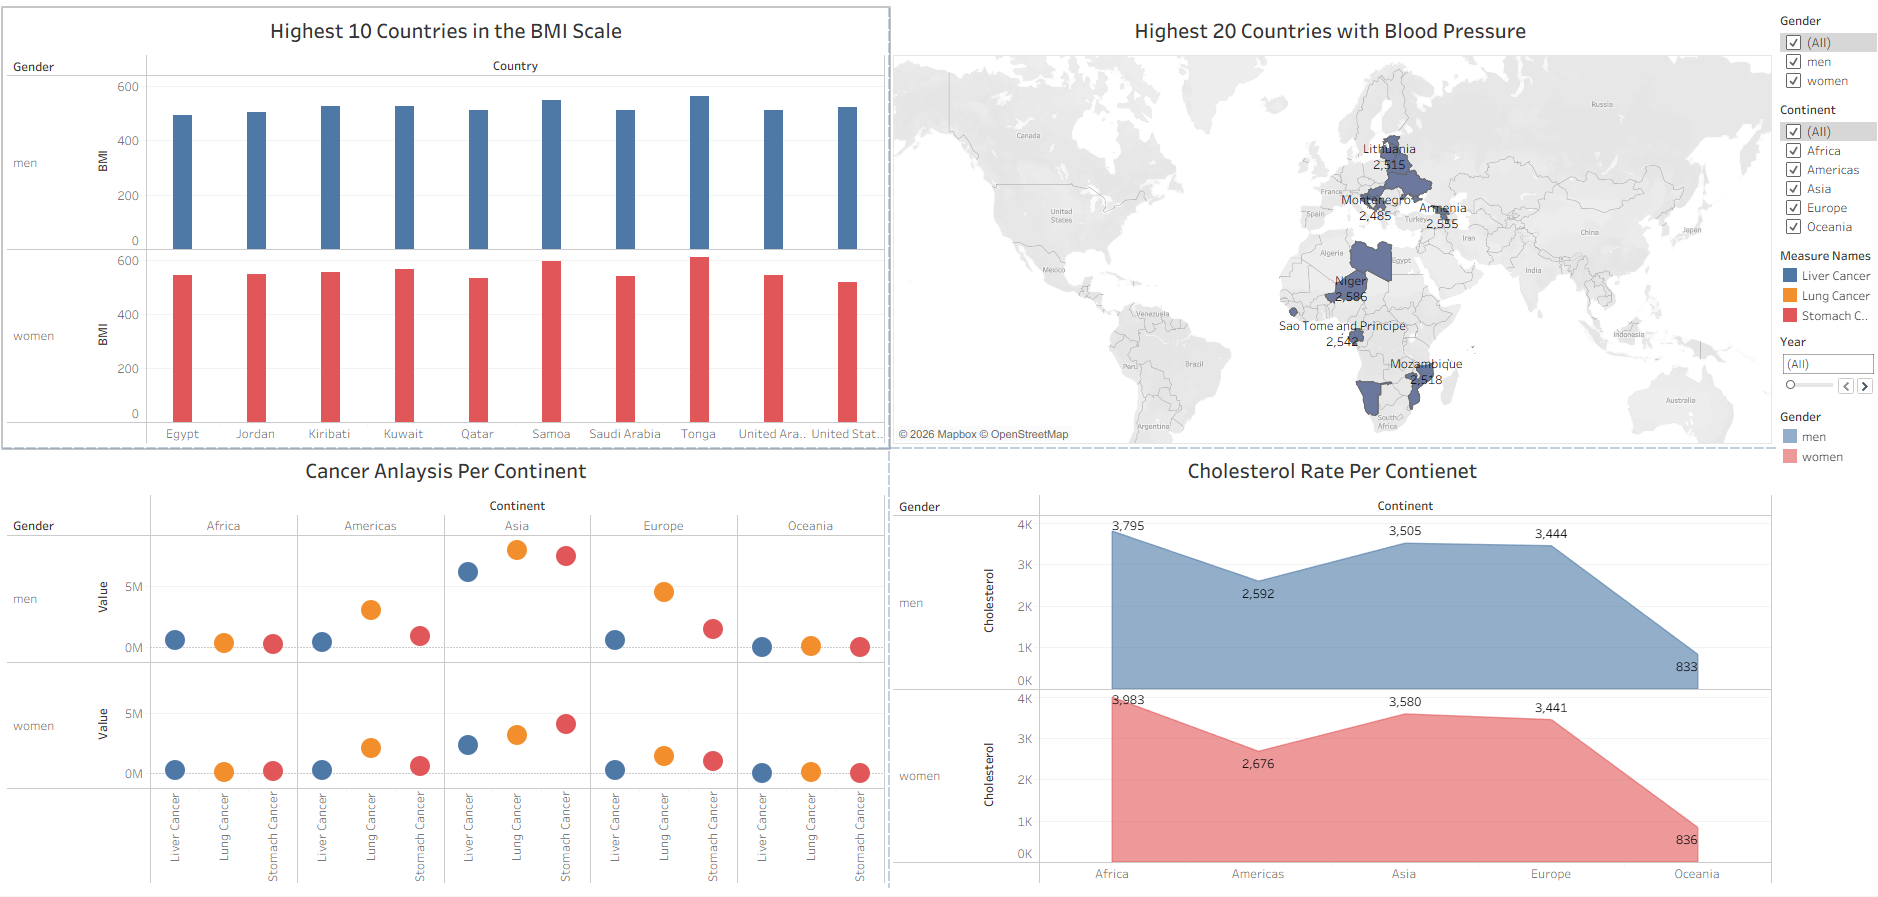

The dashboard page shown, as its layout file describes it:
{"tool":"tableau","page":{"name":"Dashboard 1","canvas":[1000,1000],"units":"permille","ordinal":0},"visuals":[{"type":"worksheet","title":"BMI","mark":"Automatic","rows":["Gender","BMI"],"cols":["Country"],"box":[4.2,8.9,468,491.1]},{"type":"worksheet","title":"Blood Pressure","mark":"Multipolygon","box":[472.2,8.9,468.1,491.1]},{"type":"filter","title":"Blood Pressure","param":"[federated.1vwc61e0gepmc311qbgl801tlgmw].[none:Gender:nk]","box":[940.3,8.9,55.4,99.3]},{"type":"filter","title":"Cancer Anlaysis","param":"[federated.1vwc61e0gepmc311qbgl801tlgmw].[none:Continent:nk]","box":[940.3,108.3,55.4,163]},{"type":"legend","title":"Cancer Anlaysis","param":"[federated.1vwc61e0gepmc311qbgl801tlgmw].[:Measure Names]","box":[940.3,271.2,55.4,96]},{"type":"filter","title":"Cholesterol","param":"[federated.1vwc61e0gepmc311qbgl801tlgmw].[none:Year:nk]","box":[940.3,367.2,55.4,83.7]},{"type":"legend","title":"Cholesterol","param":"[federated.1vwc61e0gepmc311qbgl801tlgmw].[none:Gender:nk]","box":[940.3,450.9,55.4,73.7]},{"type":"worksheet","title":"Cancer Anlaysis","mark":"Circle","rows":["Gender"],"cols":["Continent"],"box":[4.2,500,468,491.1]},{"type":"worksheet","title":"Cholesterol","mark":"Area","rows":["Gender","Cholesterol"],"cols":["Continent"],"box":[472.2,500,468.1,491.1]}]}

Visuals, with their boxes on the dashboard's canvas, which has no fixed pixel size, in thousandths of its width and height (x1, y1, x2, y2). These are canvas units, not pixel positions in the 1878x897 screenshot, which may show the page scaled, cropped or inside an application window:
"BMI" worksheet: x1=4, y1=9, x2=472, y2=500
"Blood Pressure" worksheet (Multipolygon marks): x1=472, y1=9, x2=940, y2=500
"Blood Pressure" filter: x1=940, y1=9, x2=996, y2=108
"Cancer Anlaysis" filter: x1=940, y1=108, x2=996, y2=271
"Cancer Anlaysis" legend: x1=940, y1=271, x2=996, y2=367
"Cholesterol" filter: x1=940, y1=367, x2=996, y2=451
"Cholesterol" legend: x1=940, y1=451, x2=996, y2=525
"Cancer Anlaysis" worksheet (Circle marks): x1=4, y1=500, x2=472, y2=991
"Cholesterol" worksheet (Area marks): x1=472, y1=500, x2=940, y2=991
